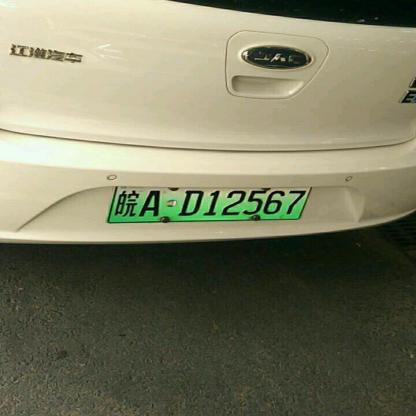lp: (108, 185, 312, 223)
